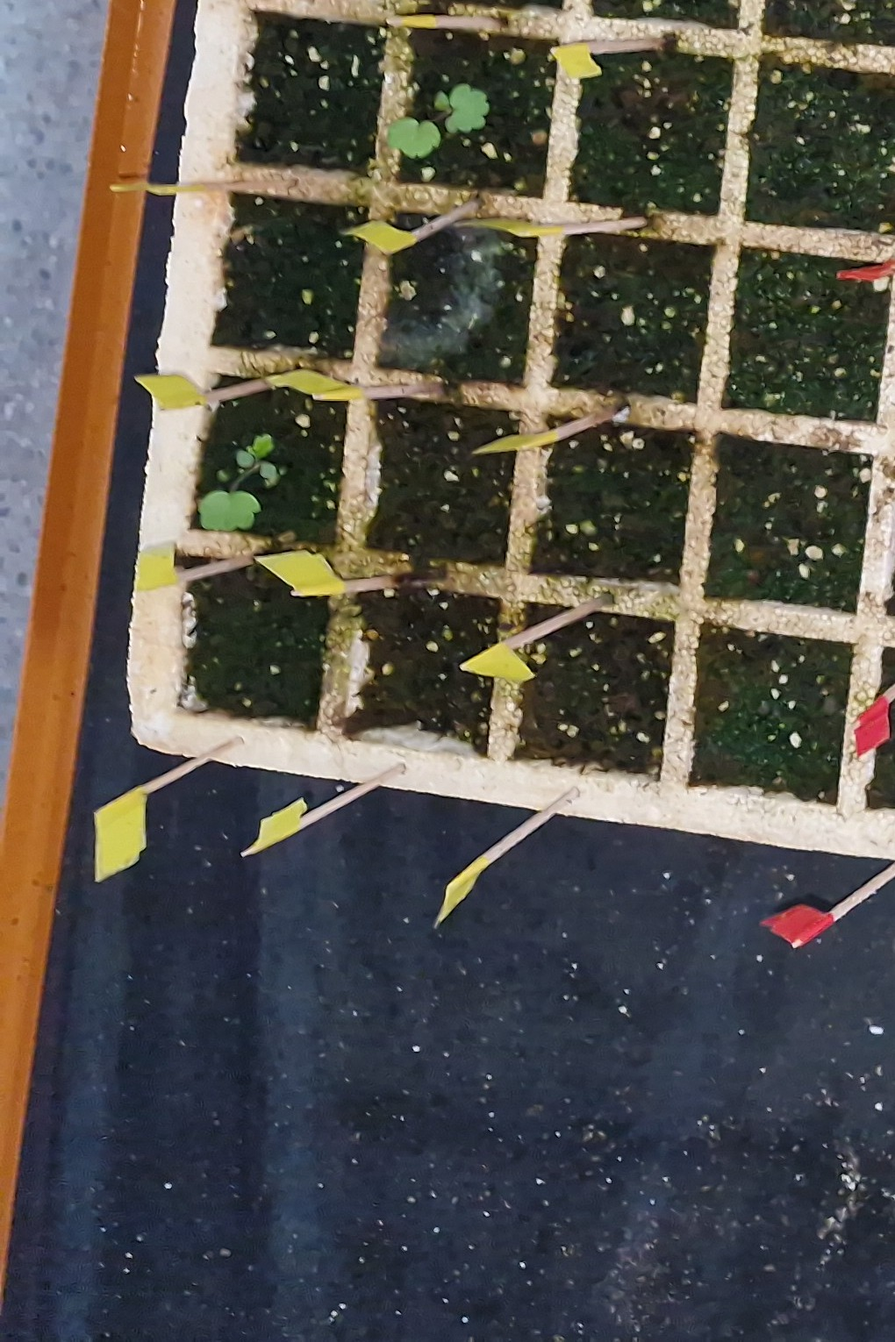Folha: (201, 491, 260, 530), (386, 117, 441, 158), (446, 84, 490, 133), (249, 434, 273, 458), (237, 451, 254, 468), (434, 91, 449, 110), (260, 461, 276, 478)
Germinacao: (387, 85, 488, 159), (201, 435, 277, 529)
